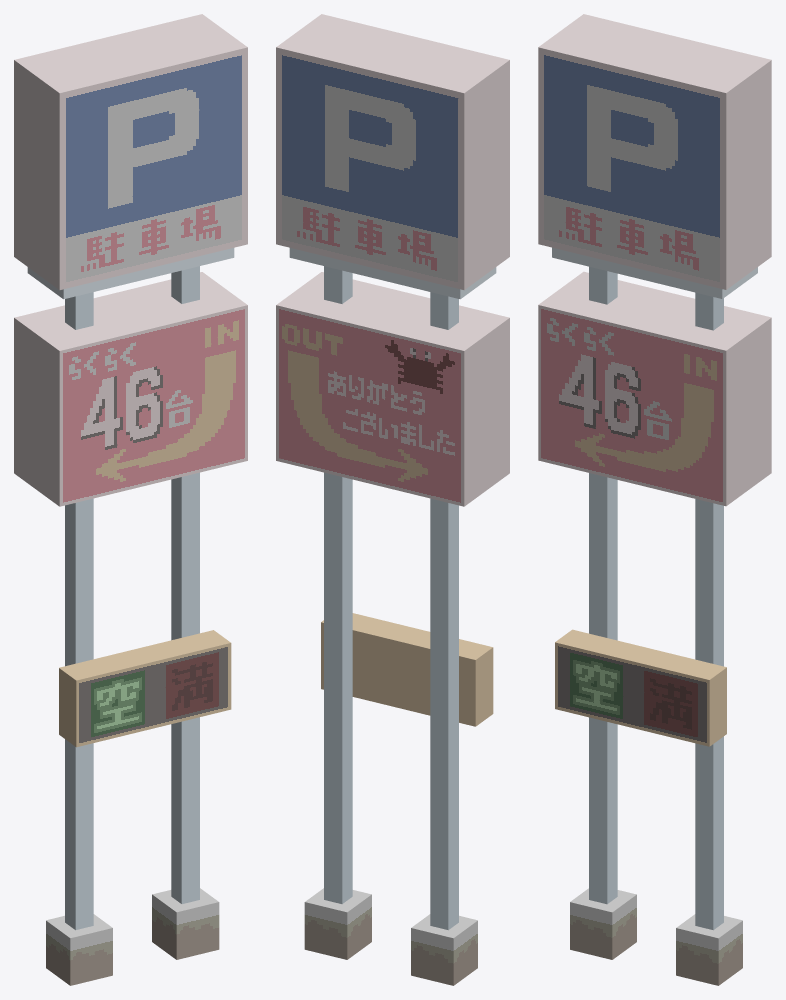
File: 0555_Parking_Lot.glb
3 views of the same model, side by side, from view 1: azimuth 30°, elevation 25°; view 2: azimuth 150°, elevation 25°; view 3: azimuth 330°, elevation 25° (orthographic).
Visible parts, largest first — view 1: part_0; view 2: part_0; view 3: part_0.
Boxes of the visible parts, x1=… form: part_0: x1=14, y1=14, x2=247, y2=985; part_0: x1=276, y1=14, x2=509, y2=985; part_0: x1=538, y1=14, x2=771, y2=985.
Bounding box in the file's own units: 1.24 × 5.7 × 0.52.
Materials: 1 (1 with a texture image).
